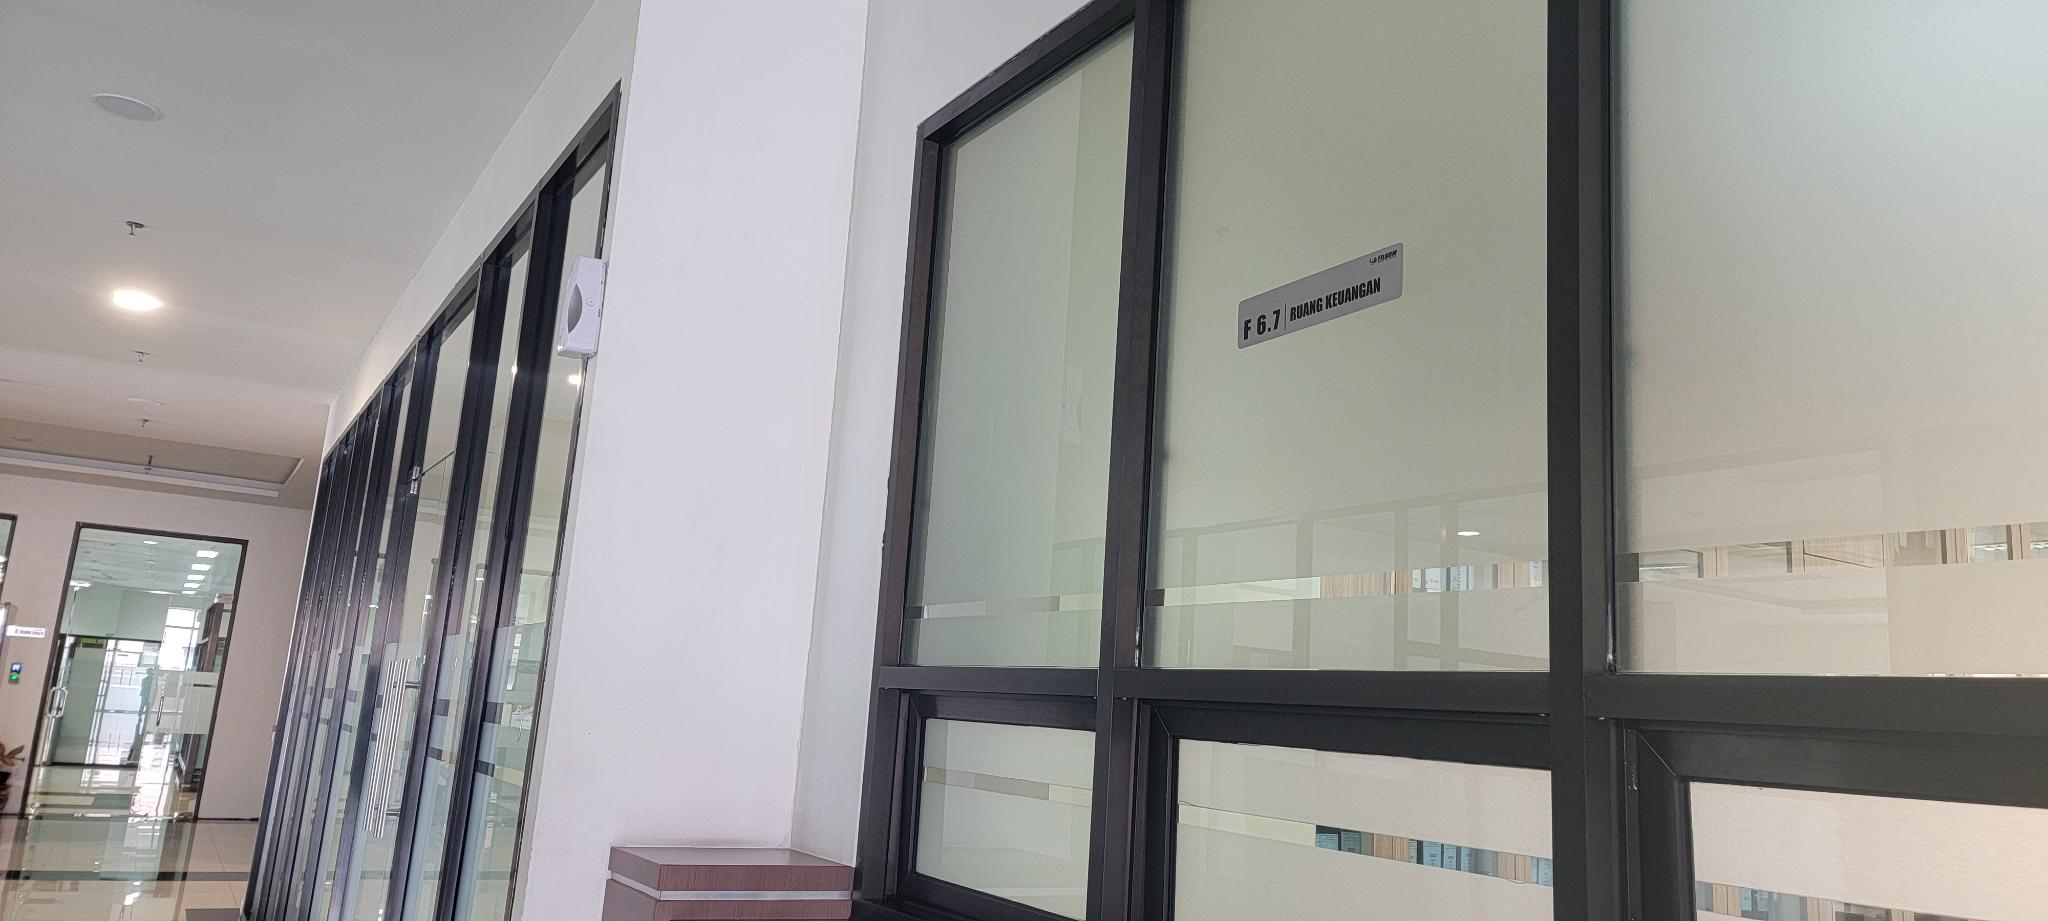plate: (1237, 242, 1404, 350)
